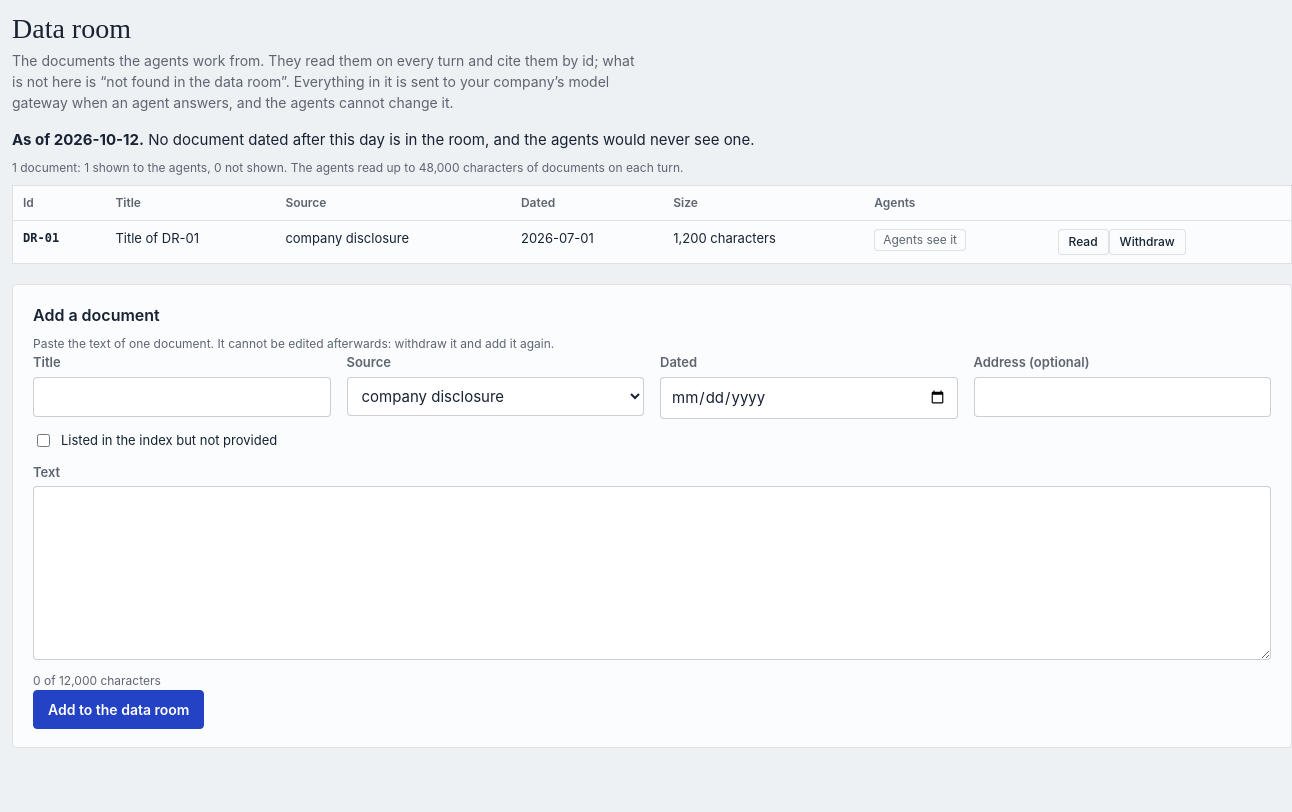
Test case: DataRoomPanel: the room › says so when a document cannot be read
Click the button with aria-label "Read DR-01": (1083, 242) x1=1058 y1=229 x2=1109 y2=255
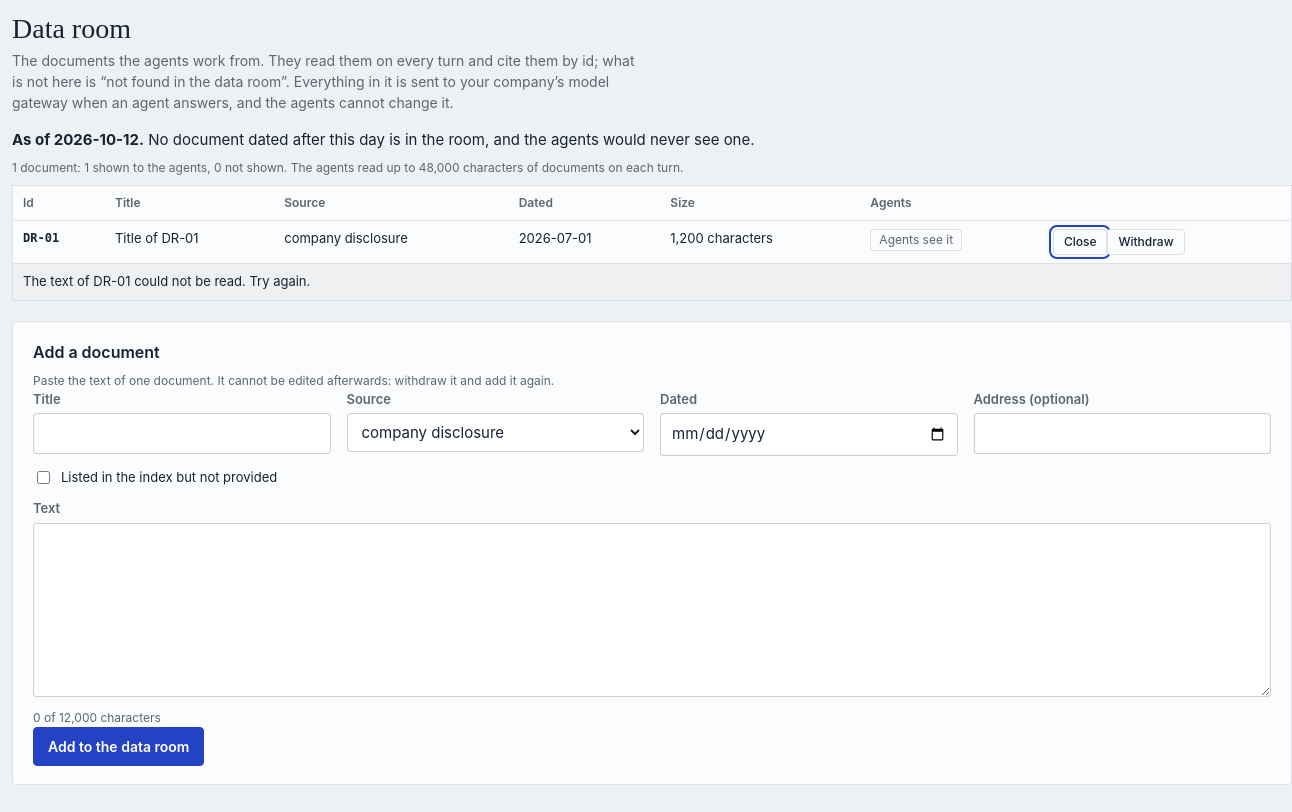
Result: the text "The text of DR-01 could not be read. Try again." is shown at x1=23 y1=273 x2=310 y2=289
